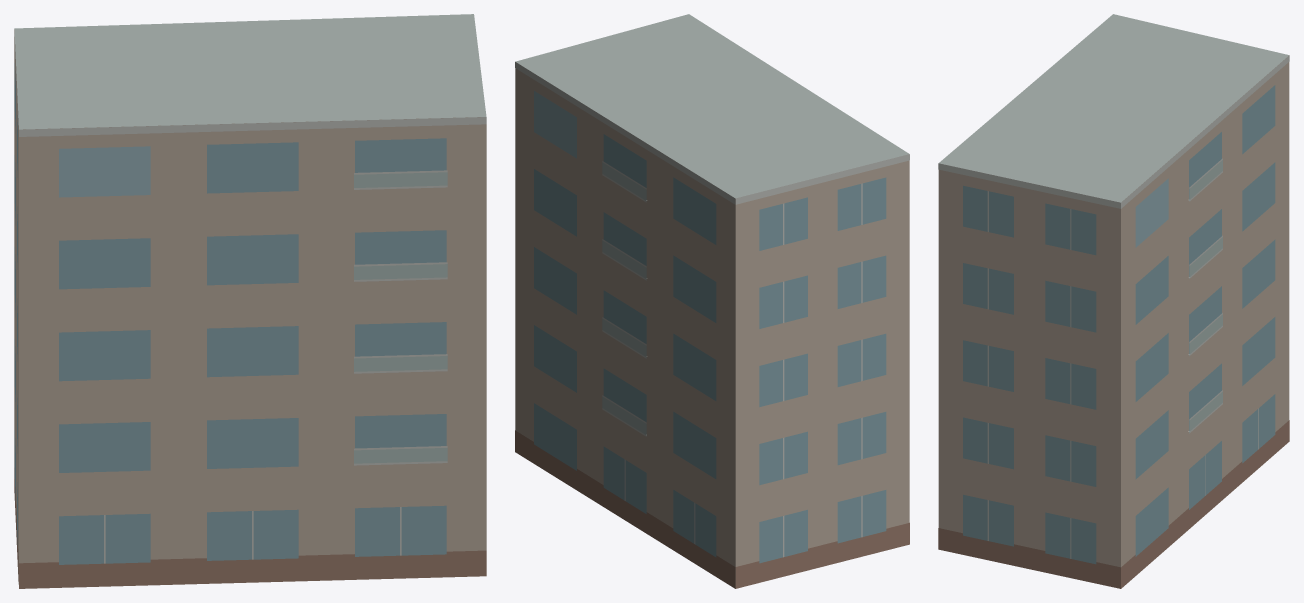
File: survey-upis-32941602.glb
3 renders of one model, left to right at view 1: azimuth 30°, elevation 25°; view 2: azimuth 150°, elevation 25°; view 3: azimuth 270°, elevation 25°, orthographic. The views are drawn at different scales.
Visible parts, largest first — view 1: survey-upis-32941602.tmp; view 2: survey-upis-32941602.tmp; view 3: survey-upis-32941602.tmp.
Part boxes in pixels (x1=…): survey-upis-32941602.tmp: x1=14, y1=14, x2=486, y2=588; survey-upis-32941602.tmp: x1=515, y1=14, x2=909, y2=588; survey-upis-32941602.tmp: x1=938, y1=14, x2=1289, y2=588.
Bounding box in the file's own units: 15.72 × 15 × 12.36.
